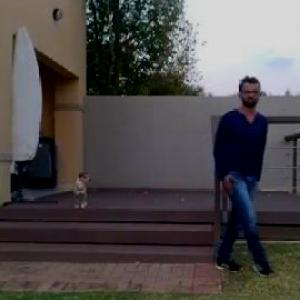follow: (202, 69, 268, 284)
